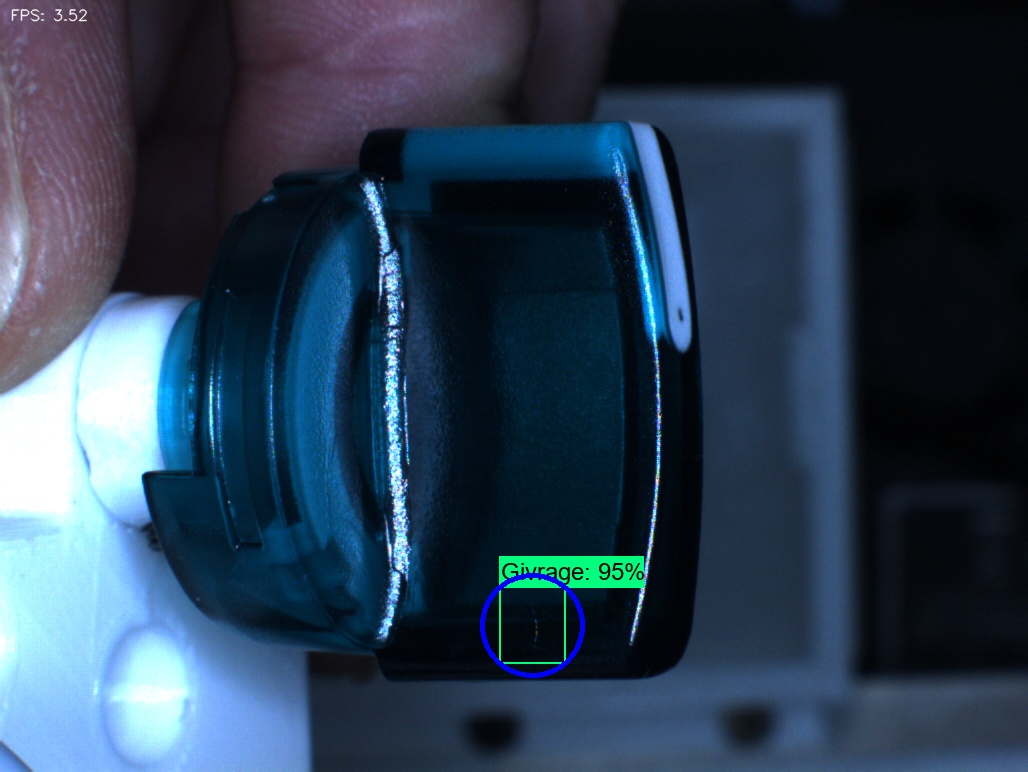PointNoir: (639, 275, 724, 364)
